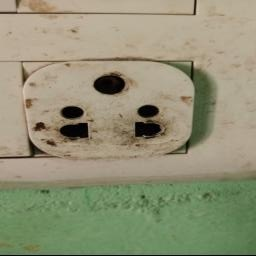outlet: (15, 56, 205, 167)
